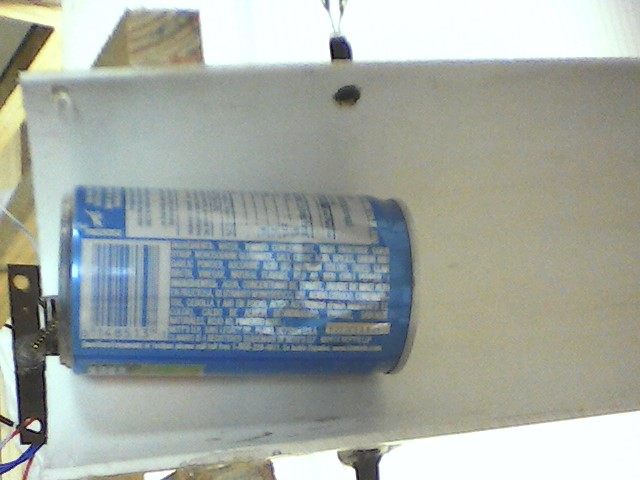lata: (53, 178, 426, 393)
